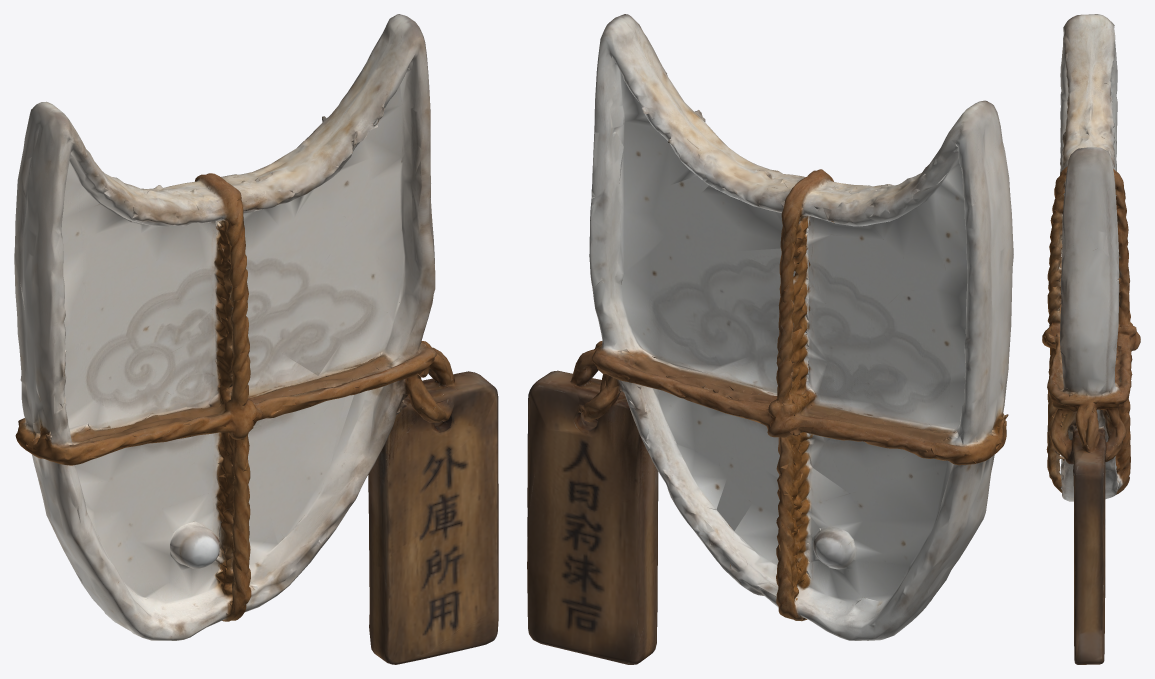
Rendered from Meshy_AI_Tied_Glass_Mask_0822070915_texture.fbx.
3 views of the same model, side by side, from view 1: azimuth 30°, elevation 25°; view 2: azimuth 150°, elevation 25°; view 3: azimuth 270°, elevation 25° (orthographic). The views are drawn at different scales.
Visible parts, largest first — view 1: output_unwrapped; view 2: output_unwrapped; view 3: output_unwrapped.
Boxes of the visible parts, x1,y1,x2,y2 form: output_unwrapped: [14, 14, 498, 664]; output_unwrapped: [527, 14, 1013, 664]; output_unwrapped: [1042, 14, 1140, 664].
Size of the model in its own units: 153 by 200 by 36.59.
1 material, 1 textured.
